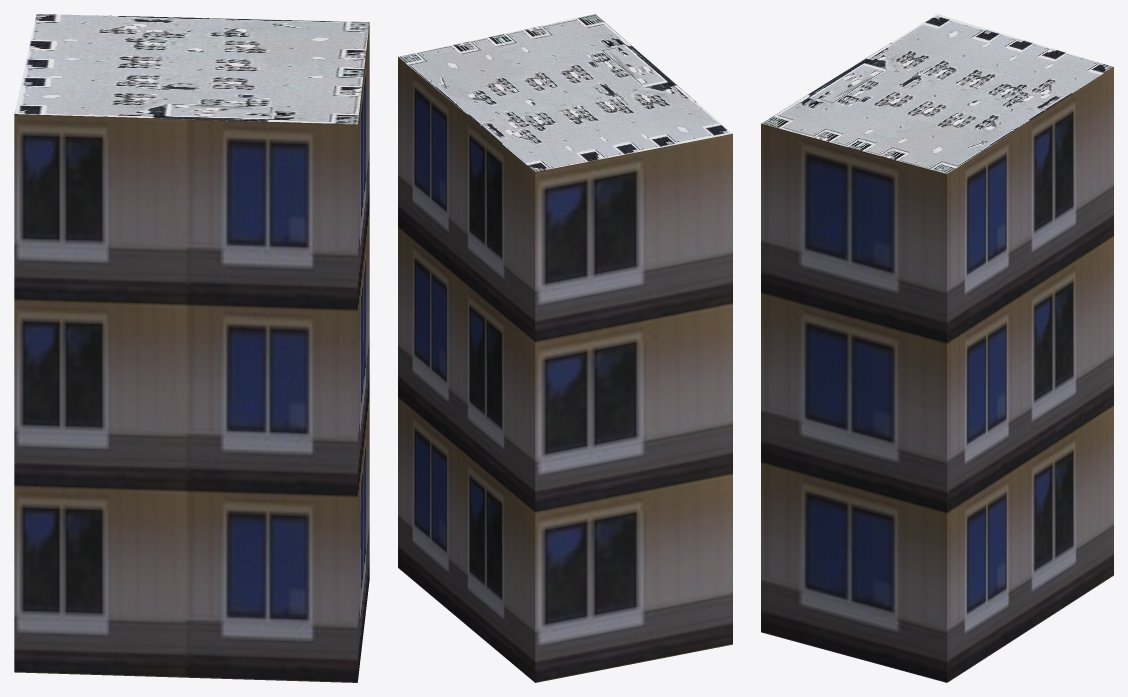
File: ResTex__4494.fbx
3 views of the same model, side by side, from view 1: azimuth 30°, elevation 25°; view 2: azimuth 150°, elevation 25°; view 3: azimuth 270°, elevation 25° (orthographic). The views are drawn at different scales.
Visible parts, largest first — view 1: CityEngineMaterial_5_m, CityEngineMaterial_8_m; view 2: CityEngineMaterial_5_m, CityEngineMaterial_8_m; view 3: CityEngineMaterial_5_m, CityEngineMaterial_8_m.
Part boxes in pixels (left/top/right/bottom): CityEngineMaterial_5_m: left=14, top=22, right=369, bottom=682; CityEngineMaterial_8_m: left=14, top=14, right=369, bottom=124; CityEngineMaterial_5_m: left=398, top=57, right=732, bottom=682; CityEngineMaterial_8_m: left=398, top=14, right=732, bottom=171; CityEngineMaterial_5_m: left=761, top=67, right=1113, bottom=682; CityEngineMaterial_8_m: left=761, top=14, right=1112, bottom=173.
Size of the model in its own units: 6.08 by 9 by 5.66.
2 materials, 2 textured.
